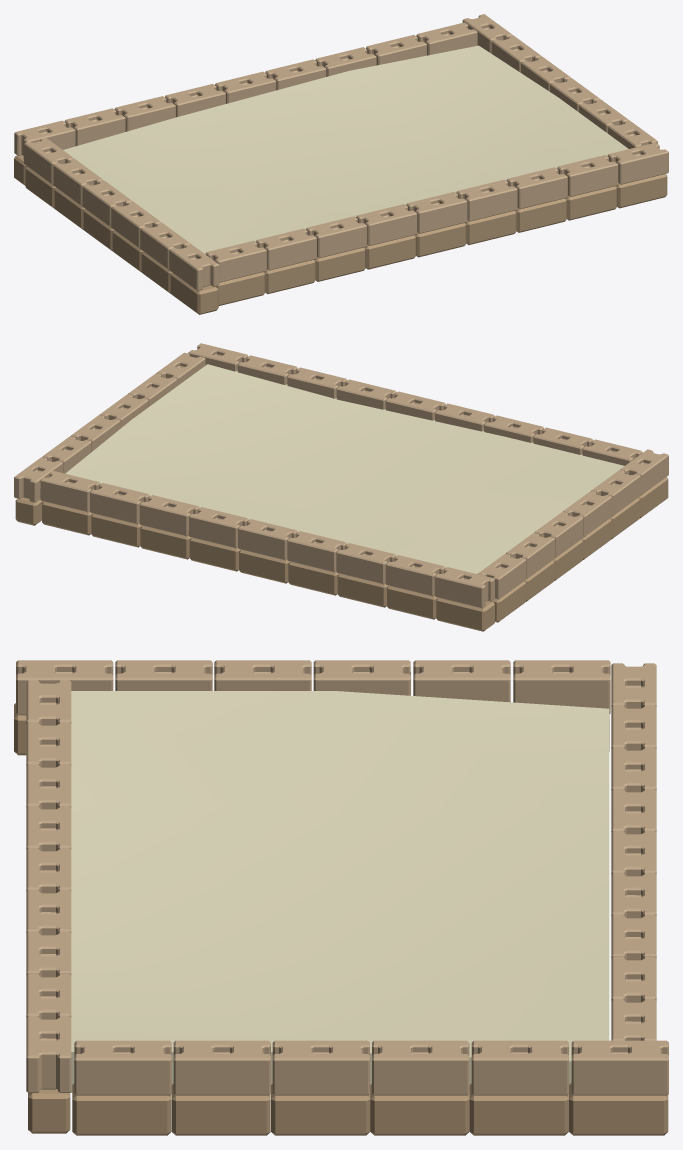
File: sand new.fbx
3 renders of one model, top to bottom at view 1: azimuth 30°, elevation 25°; view 2: azimuth 150°, elevation 25°; view 3: azimuth 270°, elevation 25°, orthographic. The views are drawn at different scales.
Visible parts, largest first — view 1: polySurface1065, pCube10, polySurface1083, pCube9, polySurface1084; view 2: polySurface1065, pCube9, polySurface1083, pCube10, polySurface1084; view 3: polySurface1065, polySurface1084, polySurface1083, pCube10, pCube9.
Part boxes in pixels (left/top/right/bottom): polySurface1065: left=63, top=45, right=628, bottom=254; pCube10: left=205, top=142, right=668, bottom=305; polySurface1083: left=24, top=137, right=219, bottom=314; pCube9: left=14, top=22, right=477, bottom=185; polySurface1084: left=462, top=14, right=657, bottom=148; polySurface1065: left=65, top=364, right=624, bottom=573; pCube9: left=40, top=471, right=494, bottom=631; polySurface1083: left=477, top=449, right=668, bottom=622; pCube10: left=188, top=343, right=642, bottom=465; polySurface1084: left=14, top=352, right=205, bottom=525; polySurface1065: left=70, top=691, right=609, bottom=1092; polySurface1084: left=72, top=1040, right=668, bottom=1135; polySurface1083: left=14, top=660, right=610, bottom=755; pCube10: left=26, top=680, right=71, bottom=1133; pCube9: left=611, top=663, right=656, bottom=1040.
Bounding box in the file's own units: 182 × 16.83 × 126.
